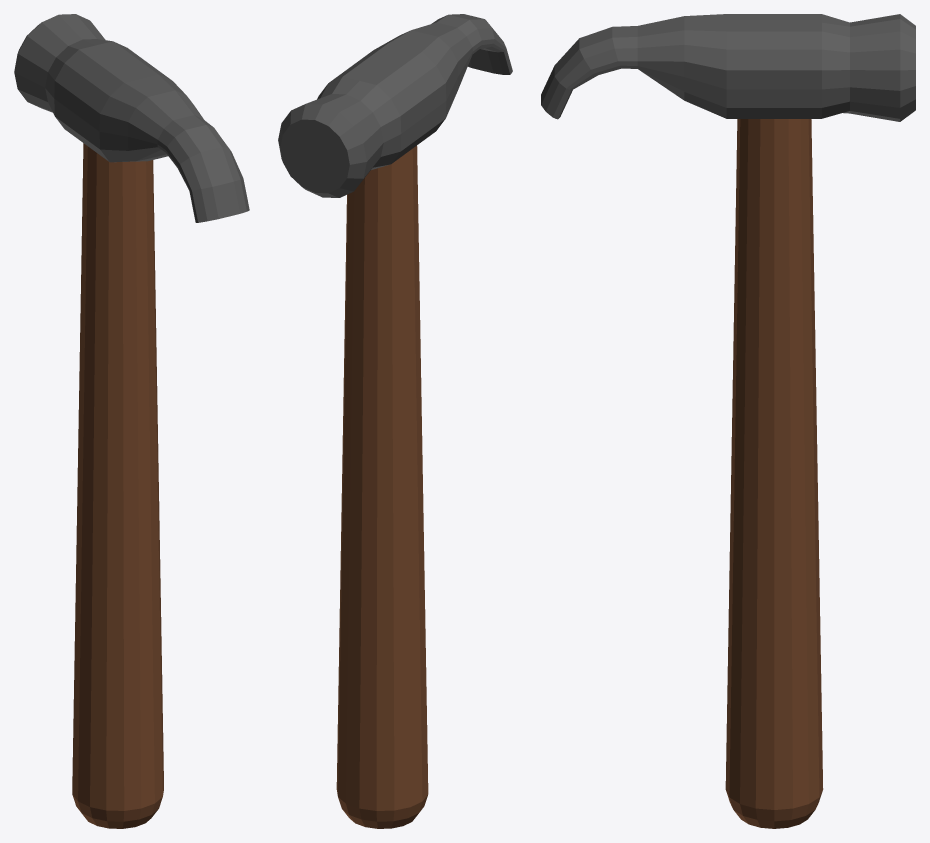
File: Hammer.fbx
3 views of the same model, side by side, from view 1: azimuth 30°, elevation 25°; view 2: azimuth 150°, elevation 25°; view 3: azimuth 270°, elevation 25° (orthographic). The views are drawn at different scales.
Visible parts, largest first — view 1: Cylinder.005; view 2: Cylinder.005; view 3: Cylinder.005.
Part boxes in pixels (bbox=[...]): Cylinder.005: bbox=[14, 14, 249, 828]; Cylinder.005: bbox=[278, 14, 512, 828]; Cylinder.005: bbox=[541, 14, 915, 828].
Size of the model in its own units: 8.39 by 67.96 by 29.04.
